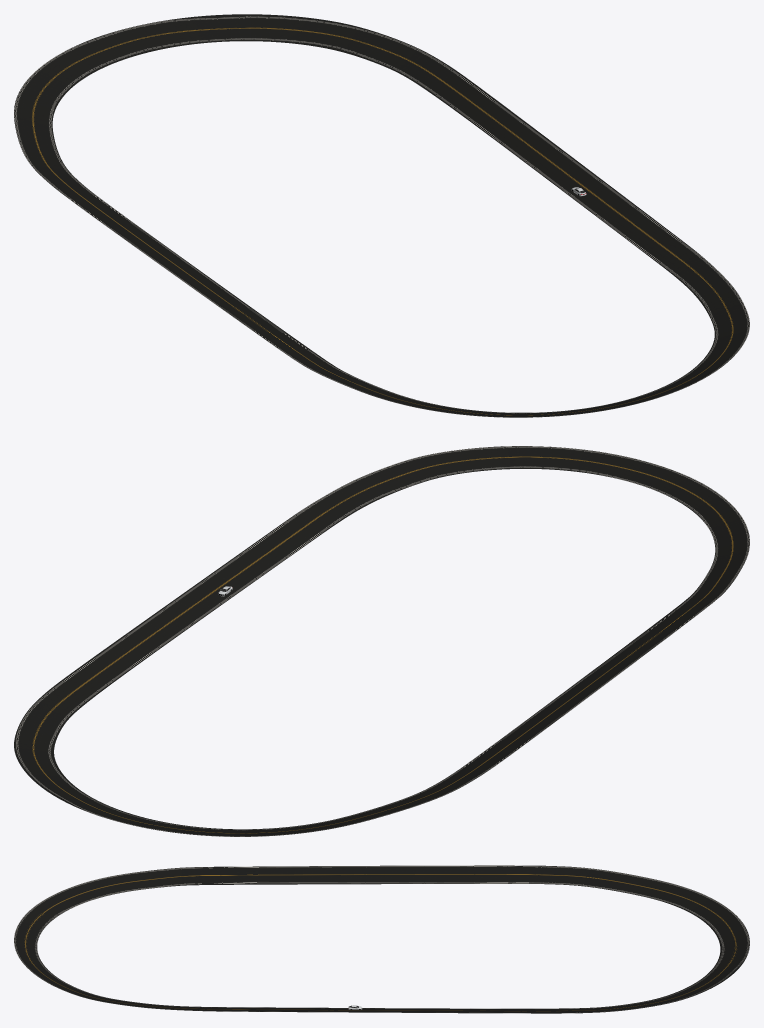
File: road_texture.glb
The picture shows the model from 3 angles, top to bottom: view 1: azimuth 30°, elevation 25°; view 2: azimuth 150°, elevation 25°; view 3: azimuth 270°, elevation 25°; orthographic projection. The views are drawn at different scales.
Visible parts, largest first — view 1: Circle.001; view 2: Circle.001; view 3: Circle.001.
Part boxes in pixels (x1,y1,x2,y2): Circle.001: [14, 14, 749, 417]; Circle.001: [14, 446, 749, 836]; Circle.001: [14, 865, 749, 1013].
Size of the model in its own units: 120 by 2.52 by 253.
14 materials, 1 textured.
